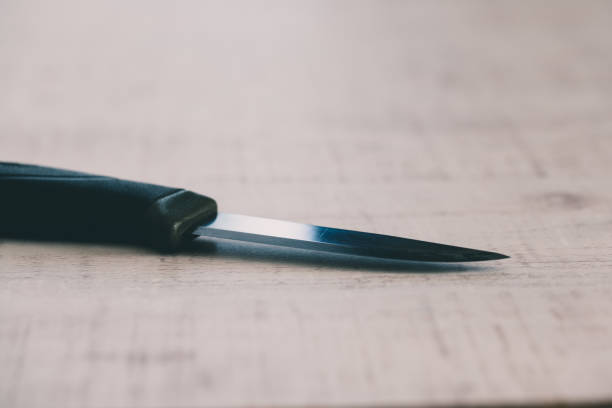knife: (0, 158, 515, 269)
